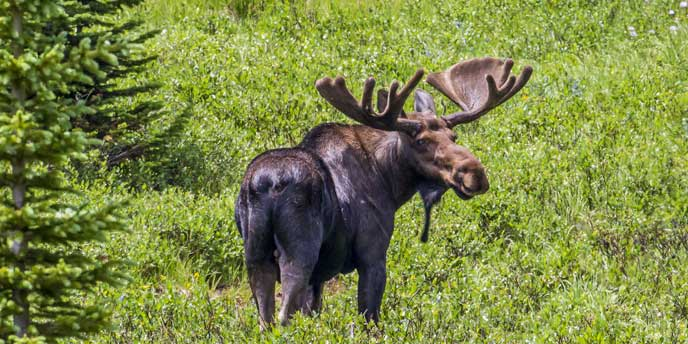moose: (234, 54, 534, 330)
